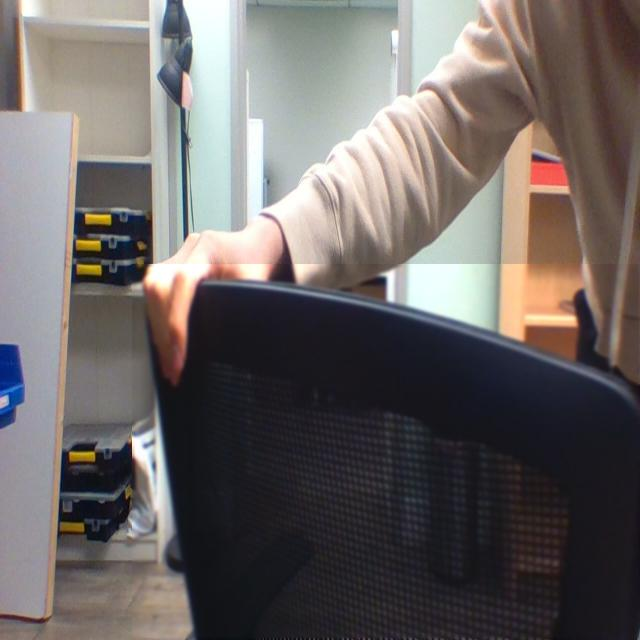black-chair: (132, 264, 640, 639)
